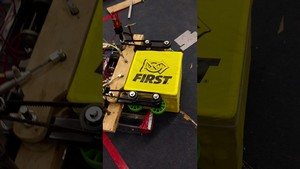cube: (125, 50, 182, 113)
